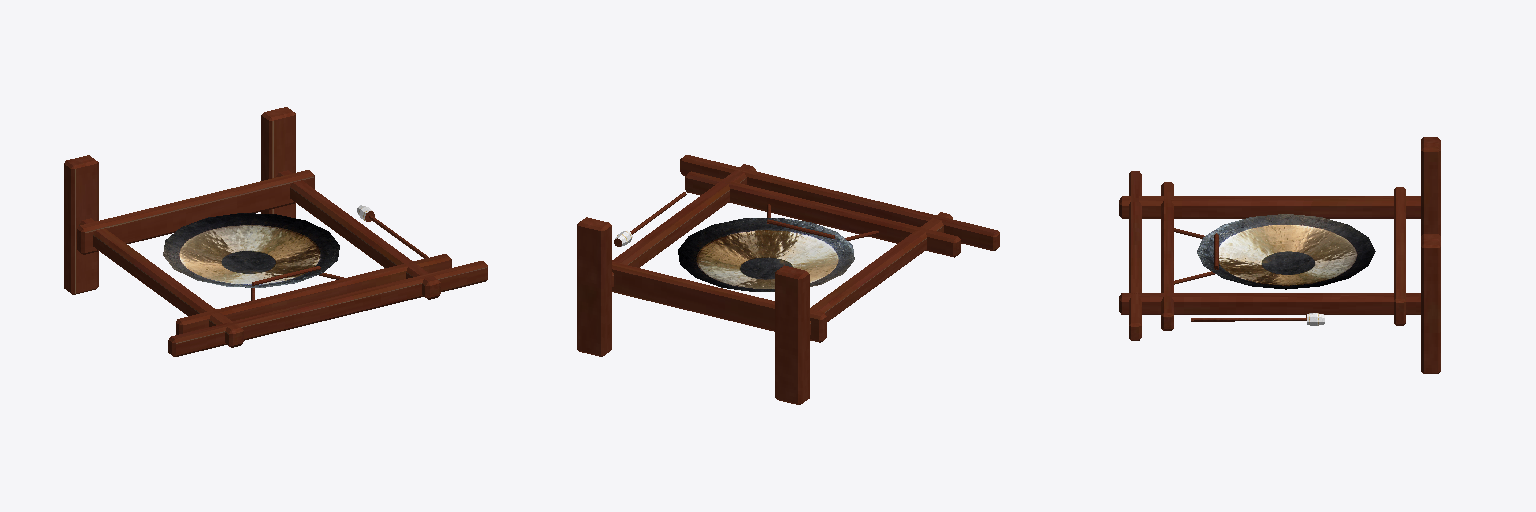
3 views of the same model, side by side, from view 1: azimuth 30°, elevation 25°; view 2: azimuth 150°, elevation 25°; view 3: azimuth 270°, elevation 25° (orthographic).
Parts seen in each view (by area): view 1: 10383_Gong_v01; view 2: 10383_Gong_v01; view 3: 10383_Gong_v01.
Boxes of the visible parts, box(x1,y1,x2,y2) form: 10383_Gong_v01: box(64, 107, 487, 356); 10383_Gong_v01: box(577, 155, 999, 404); 10383_Gong_v01: box(1119, 137, 1440, 373).
Bounding box in the file's own units: 704 × 275 × 619.
Materials: 1 (1 with a texture image).